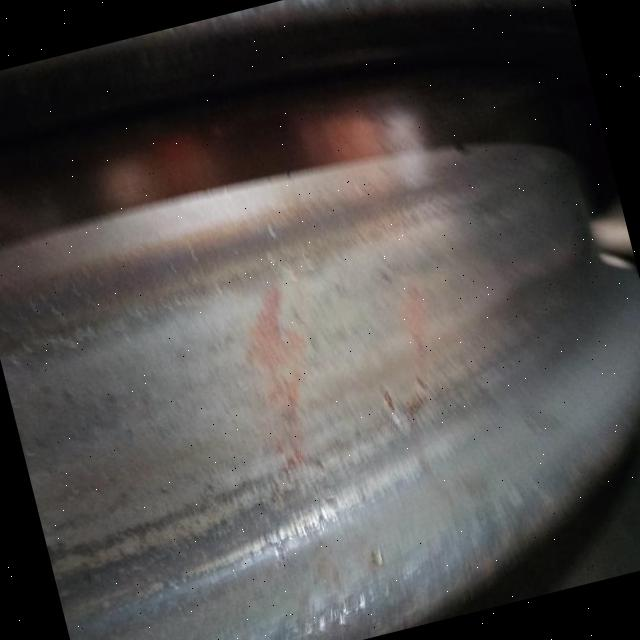Contact_Fatigue_Cracks: (138, 525, 298, 613)
